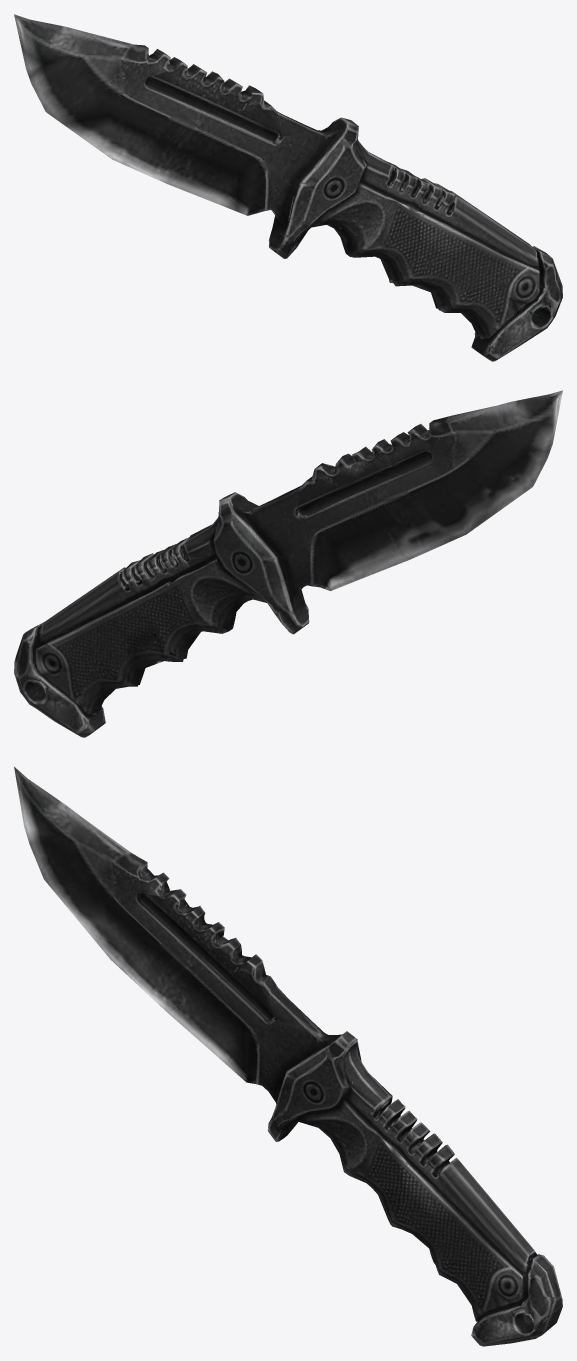
The model's file is g_knife_tactical.glb.
3 views of the same model, one above another, from view 1: azimuth 30°, elevation 25°; view 2: azimuth 150°, elevation 25°; view 3: azimuth 330°, elevation 25° (orthographic).
Size of the model in its own units: 0.9575 by 0.7705 by 0.062.
Materials: 1 (1 with a texture image).
